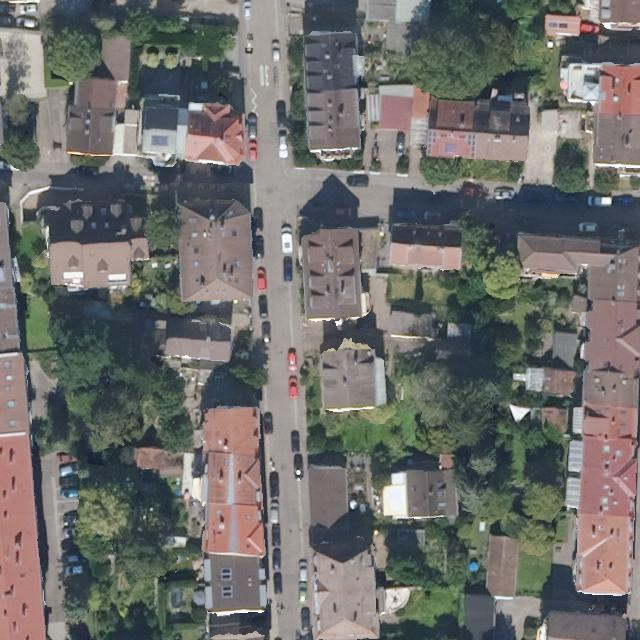PV: (425, 128, 439, 158), (465, 133, 477, 160)
